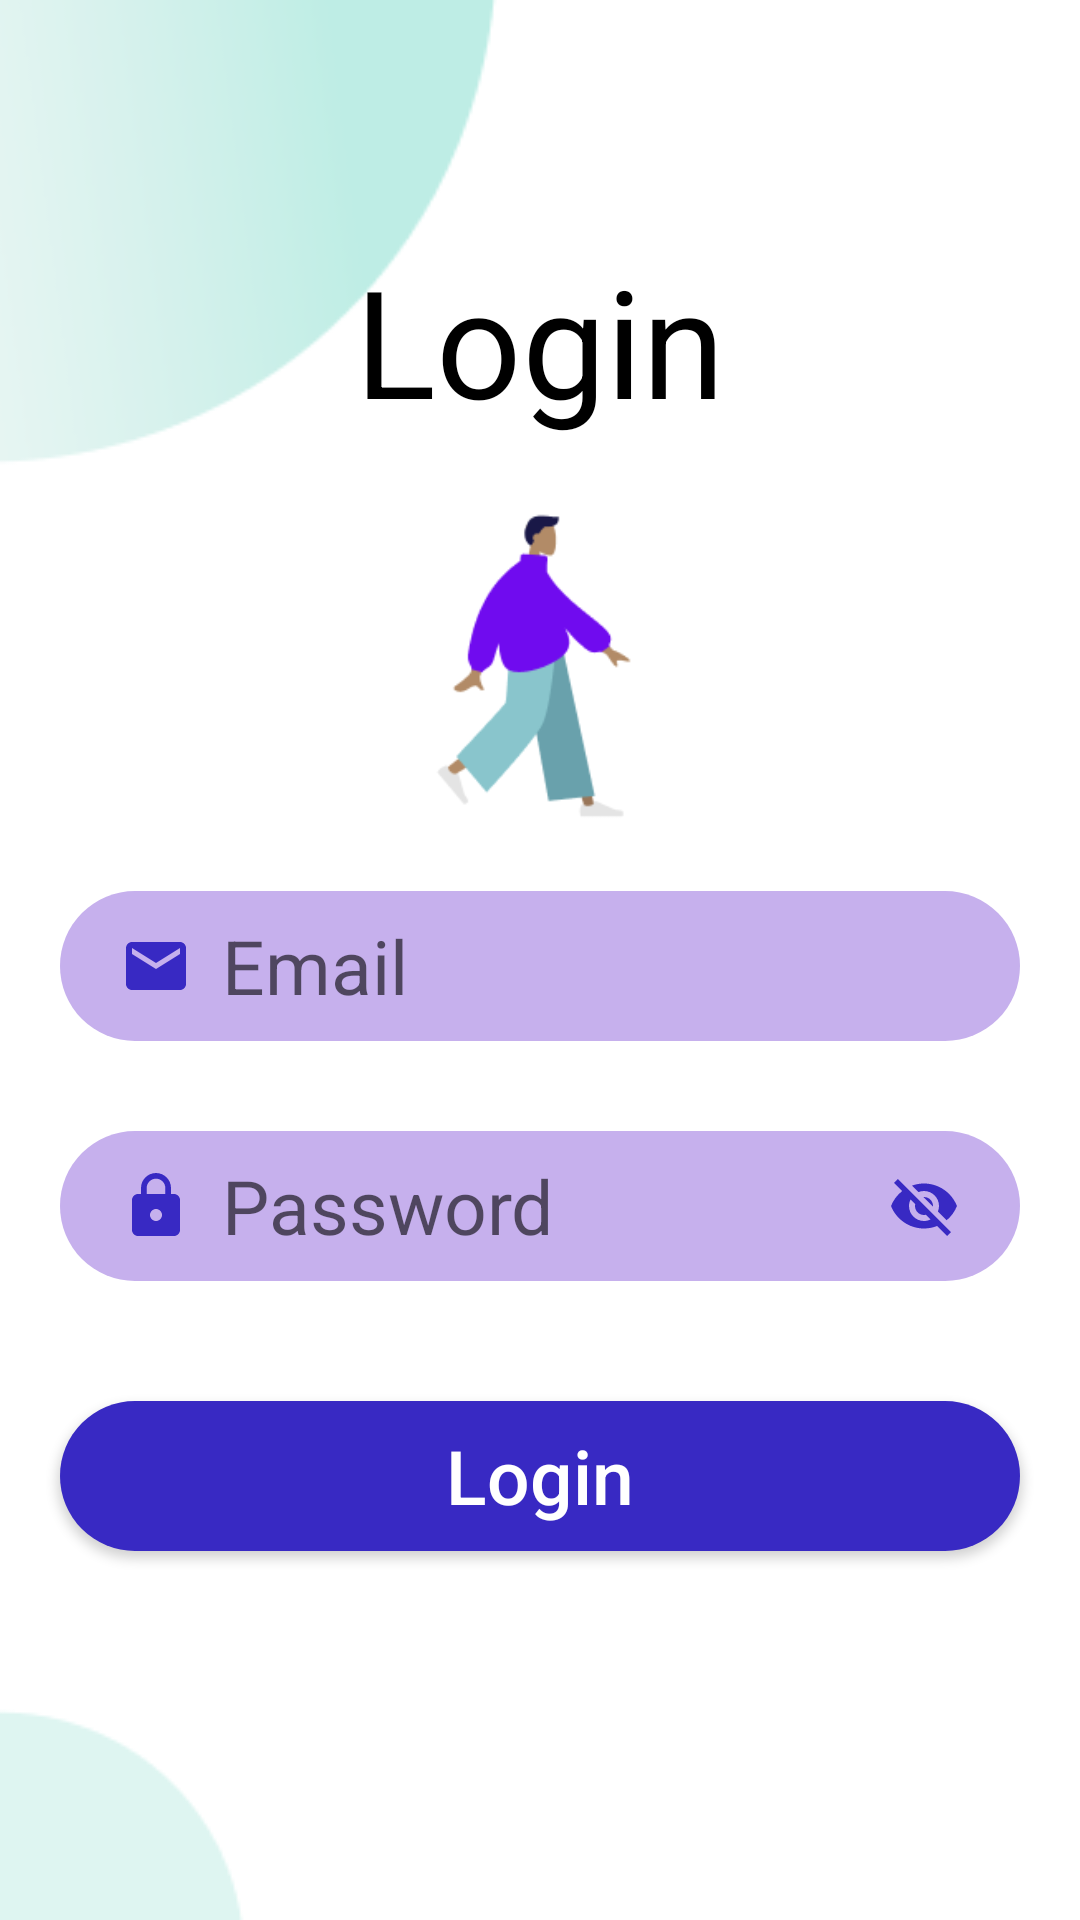

Screen size 1080w x 1920h. Icon name, then its box in pixels as (x1, y1, x2, y2):
visibility off: (891, 1179, 957, 1236)
